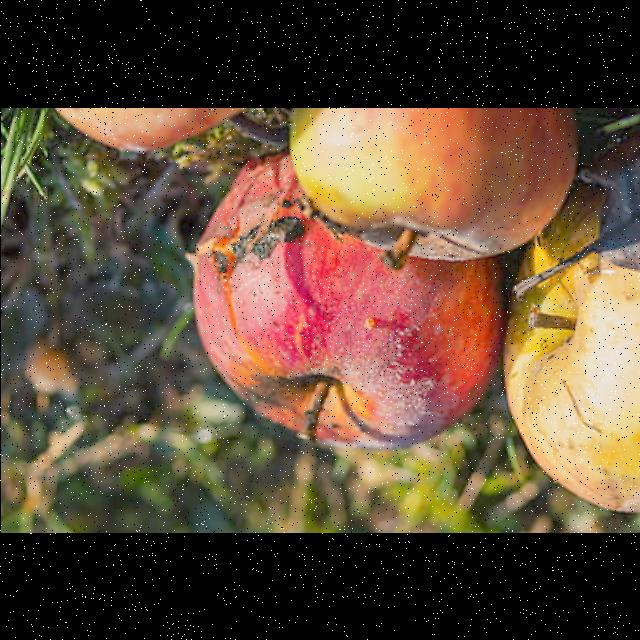Apel Tidak Segar: (172, 158, 486, 452), (488, 185, 640, 533), (269, 108, 573, 280)
